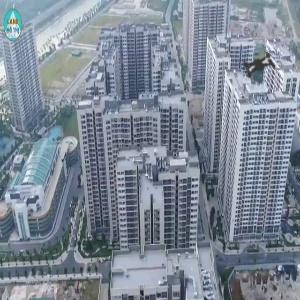drone: (219, 27, 297, 105)
